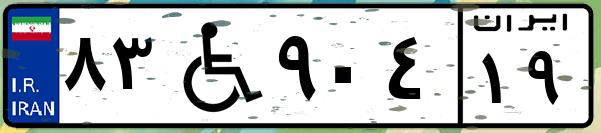0: (330, 28, 385, 110)
1: (475, 38, 525, 113)
3: (110, 28, 158, 98)
4: (385, 28, 445, 110)
8: (57, 26, 110, 100)
9: (270, 28, 330, 110), (525, 38, 570, 115)
ژ (معلولین و جانبازان): (158, 12, 270, 120)
